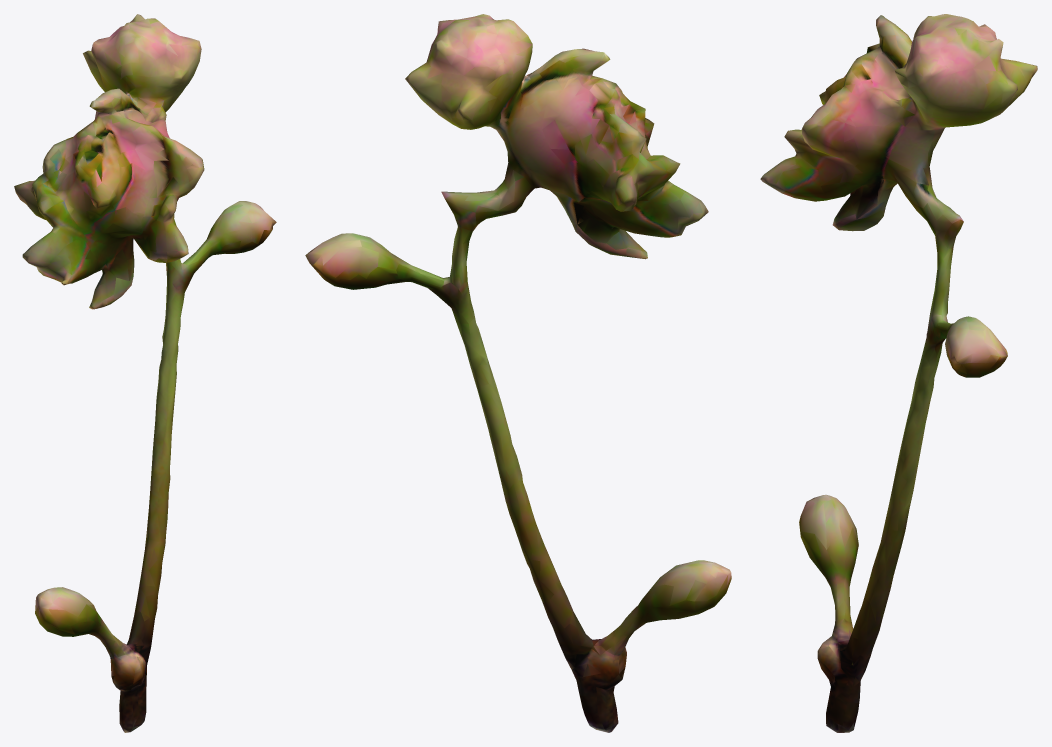
File: flower3.glb
The picture shows the model from 3 angles, left to right: view 1: azimuth 30°, elevation 25°; view 2: azimuth 150°, elevation 25°; view 3: azimuth 270°, elevation 25°; orthographic projection. The views are drawn at different scales.
Visible parts, largest first — view 1: flower3; view 2: flower3; view 3: flower3.
Boxes of the visible parts, box(x1,y1,x2,y2) form: flower3: box(14, 14, 276, 732); flower3: box(305, 14, 731, 732); flower3: box(760, 14, 1037, 732).
Size of the model in its own units: 0.8136 by 1.7 by 0.5734.
Materials: 1 (1 with a texture image).
